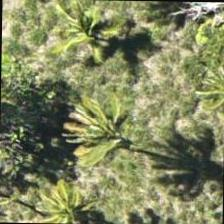Kelapa_Sawit: (43, 76, 135, 168), (52, 0, 144, 77), (16, 166, 108, 223), (177, 36, 223, 128)
